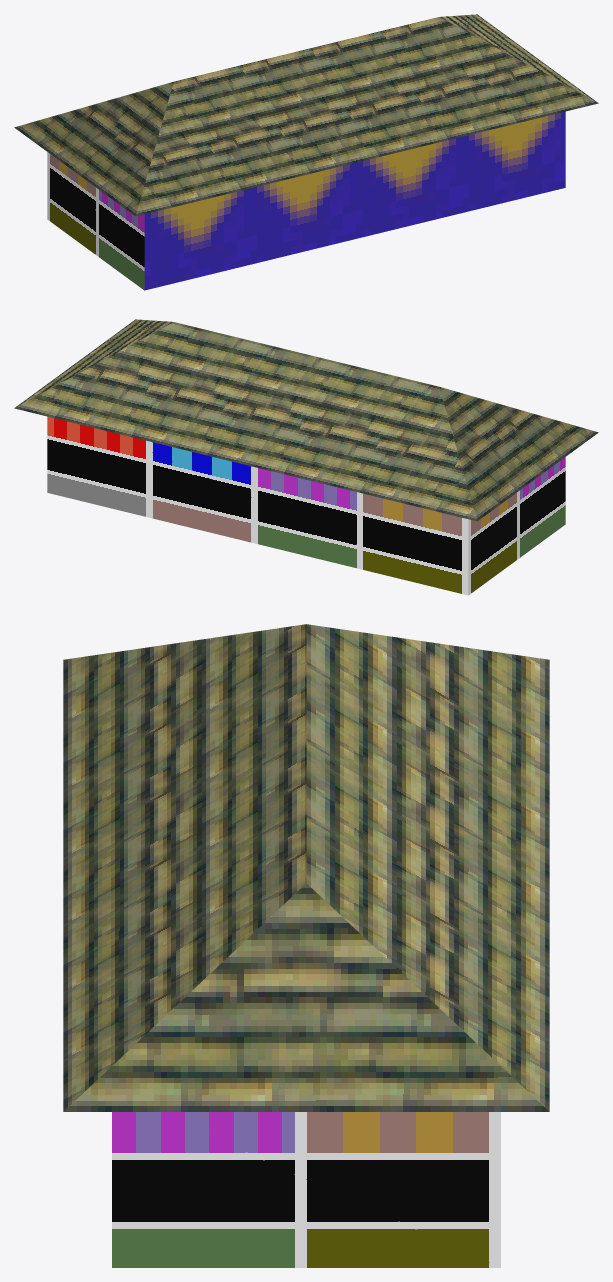
Rendered from uvmd-0015.glb.
3 renders of one model, top to bottom at view 1: azimuth 30°, elevation 25°; view 2: azimuth 150°, elevation 25°; view 3: azimuth 270°, elevation 25°, orthographic. The views are drawn at different scales.
Parts seen in each view (by area): view 1: uvmd-0015; view 2: uvmd-0015; view 3: uvmd-0015.
Part boxes in pixels (bbox=[...]): uvmd-0015: bbox=[14, 14, 598, 290]; uvmd-0015: bbox=[14, 319, 598, 595]; uvmd-0015: bbox=[63, 624, 549, 1267].
Size of the model in its own units: 220 by 70 by 100.
4 materials, 4 textured.
